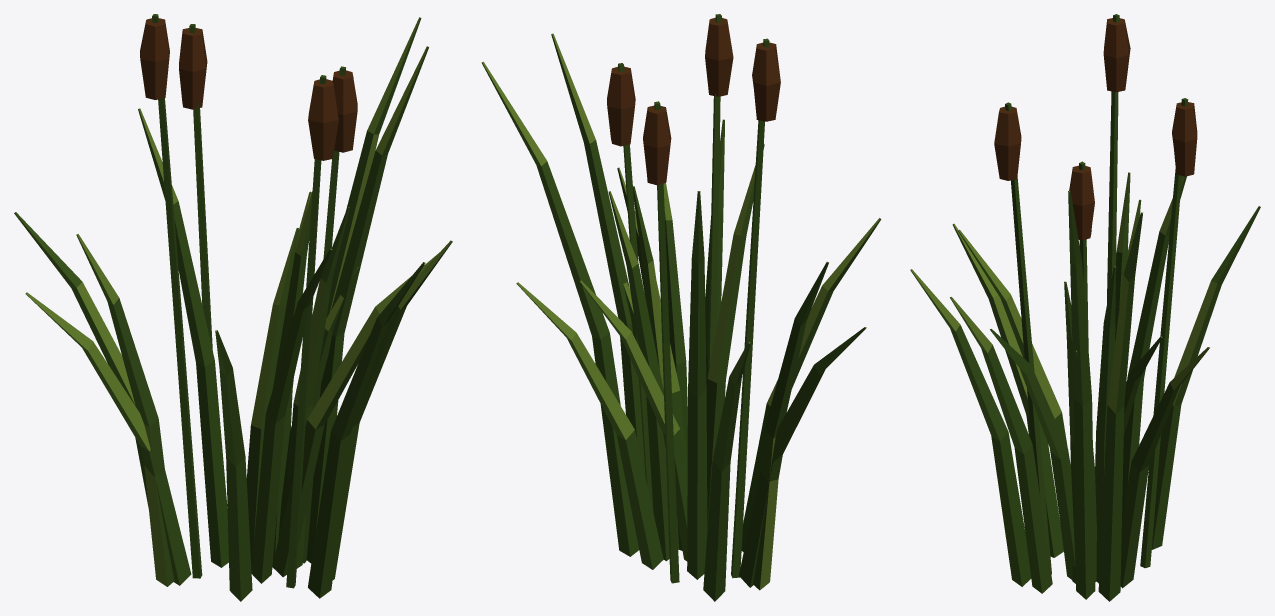
Rendered from reeds.glb.
The picture shows the model from 3 angles, left to right: view 1: azimuth 30°, elevation 25°; view 2: azimuth 150°, elevation 25°; view 3: azimuth 270°, elevation 25°; orthographic projection. The views are drawn at different scales.
Visible parts, largest first — view 1: Reeds; view 2: Reeds; view 3: Reeds.
Boxes of the visible parts, x1,y1,x2,y2 form: Reeds: [14, 14, 452, 601]; Reeds: [481, 14, 881, 601]; Reeds: [910, 14, 1260, 601].
Size of the model in its own units: 1.24 by 1.7 by 1.05.
